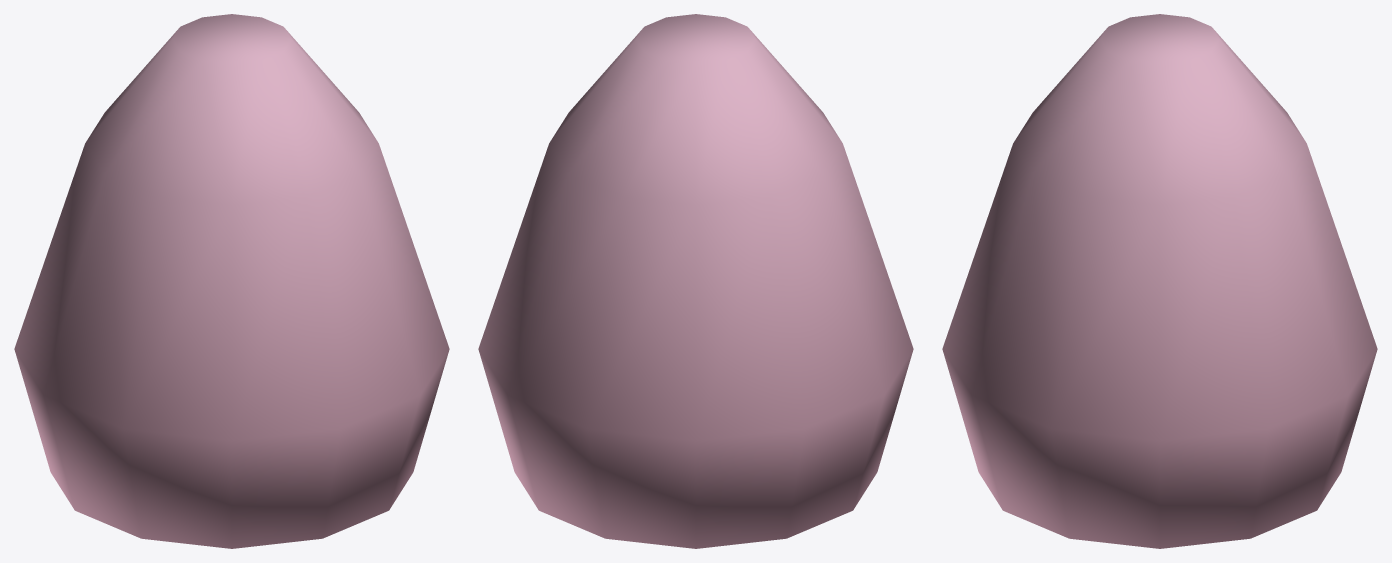
The model's file is makeup-sponge.glb.
The picture shows the model from 3 angles, left to right: view 1: azimuth 30°, elevation 25°; view 2: azimuth 150°, elevation 25°; view 3: azimuth 270°, elevation 25°; orthographic projection.
Parts seen in each view (by area): view 1: makeup-sponge; view 2: makeup-sponge; view 3: makeup-sponge.
Boxes of the visible parts, x1,y1,x2,y2 form: makeup-sponge: (14, 14, 449, 548); makeup-sponge: (478, 14, 913, 548); makeup-sponge: (942, 14, 1377, 548).
Bounding box in the file's own units: 0.096 × 0.1054 × 0.096.
